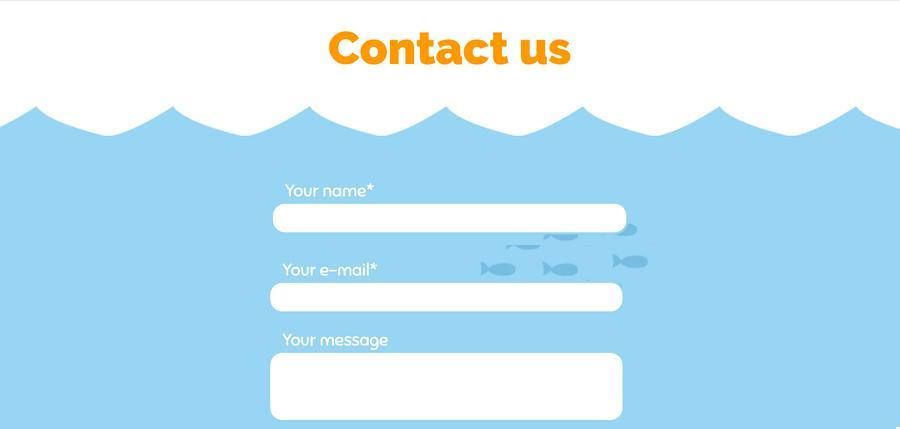input: (270, 280, 624, 313), (275, 204, 628, 234)
label: (329, 28, 575, 70), (282, 331, 389, 350), (282, 259, 380, 278), (284, 185, 380, 201)
